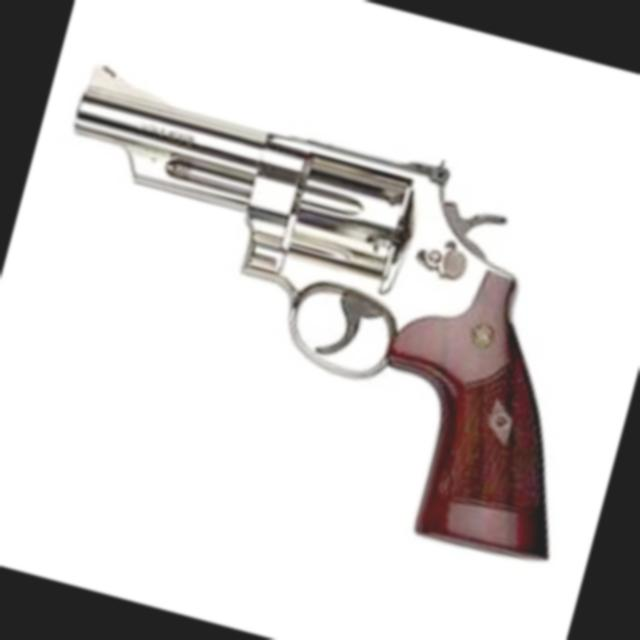revolver: (0, 0, 640, 583)
